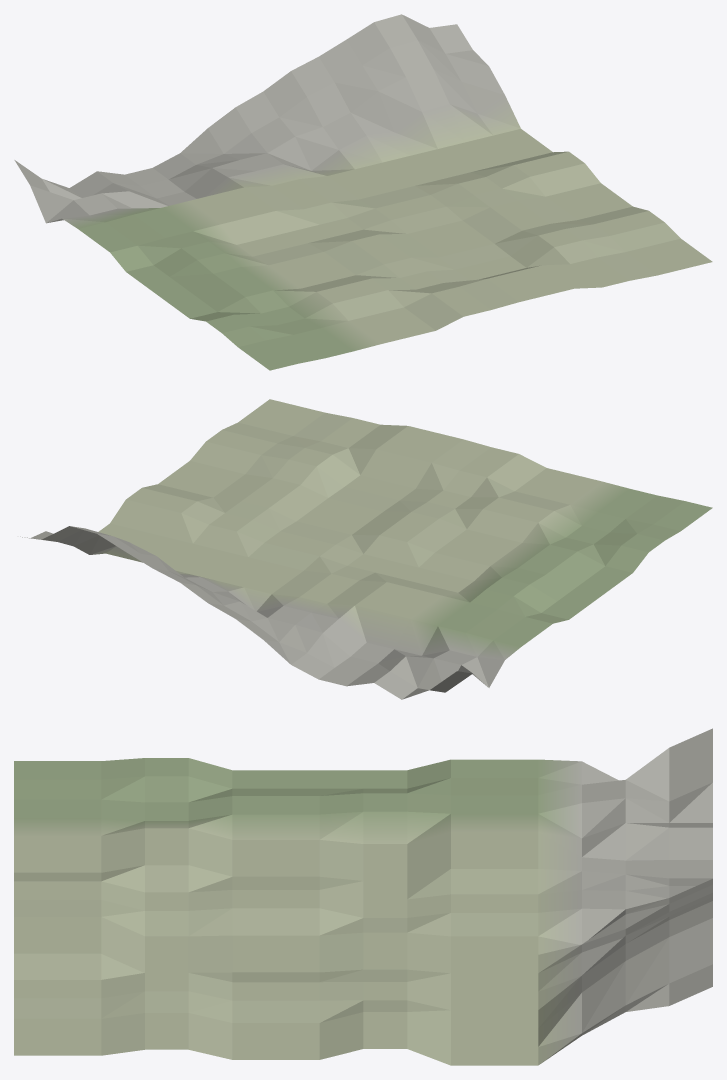
The picture shows the model from 3 angles, top to bottom: view 1: azimuth 30°, elevation 25°; view 2: azimuth 150°, elevation 25°; view 3: azimuth 270°, elevation 25°; orthographic projection. The views are drawn at different scales.
Size of the model in its own units: 32 by 6.43 by 32.
